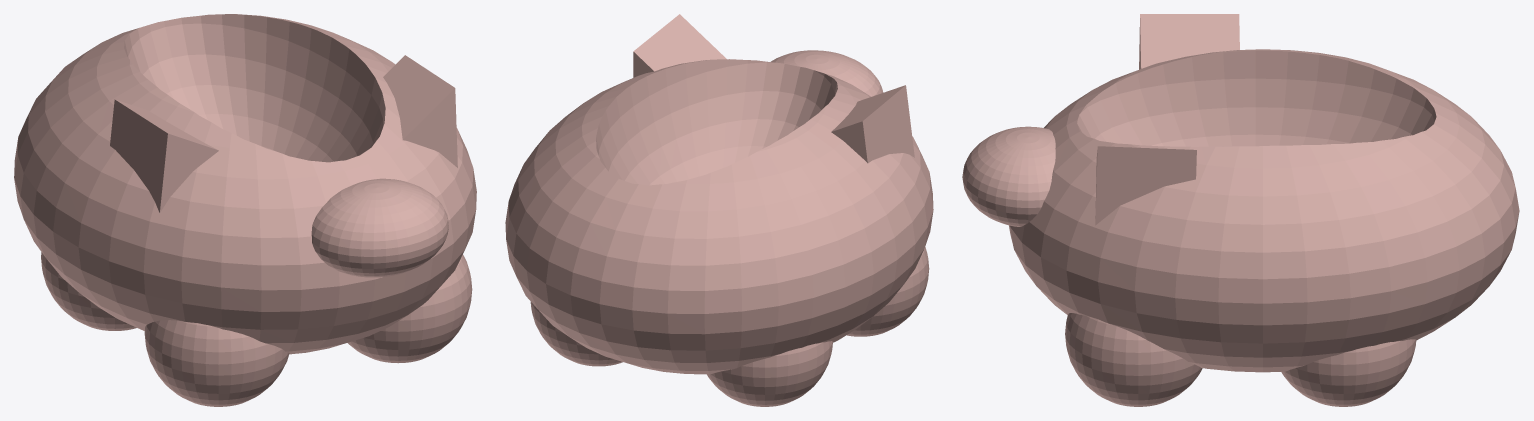
The model's file is asset.glb.
The picture shows the model from 3 angles, left to right: view 1: azimuth 30°, elevation 25°; view 2: azimuth 150°, elevation 25°; view 3: azimuth 270°, elevation 25°; orthographic projection. The views are drawn at different scales.
Visible parts, largest first — view 1: Mesh_Mesh_head_geo.001_lambert2SG.001; view 2: Mesh_Mesh_head_geo.001_lambert2SG.001; view 3: Mesh_Mesh_head_geo.001_lambert2SG.001.
Part boxes in pixels (x1,y1,x2,y2): Mesh_Mesh_head_geo.001_lambert2SG.001: [14, 14, 476, 406]; Mesh_Mesh_head_geo.001_lambert2SG.001: [505, 14, 933, 406]; Mesh_Mesh_head_geo.001_lambert2SG.001: [962, 14, 1519, 406].
Size of the model in its own units: 30 by 20.74 by 38.
